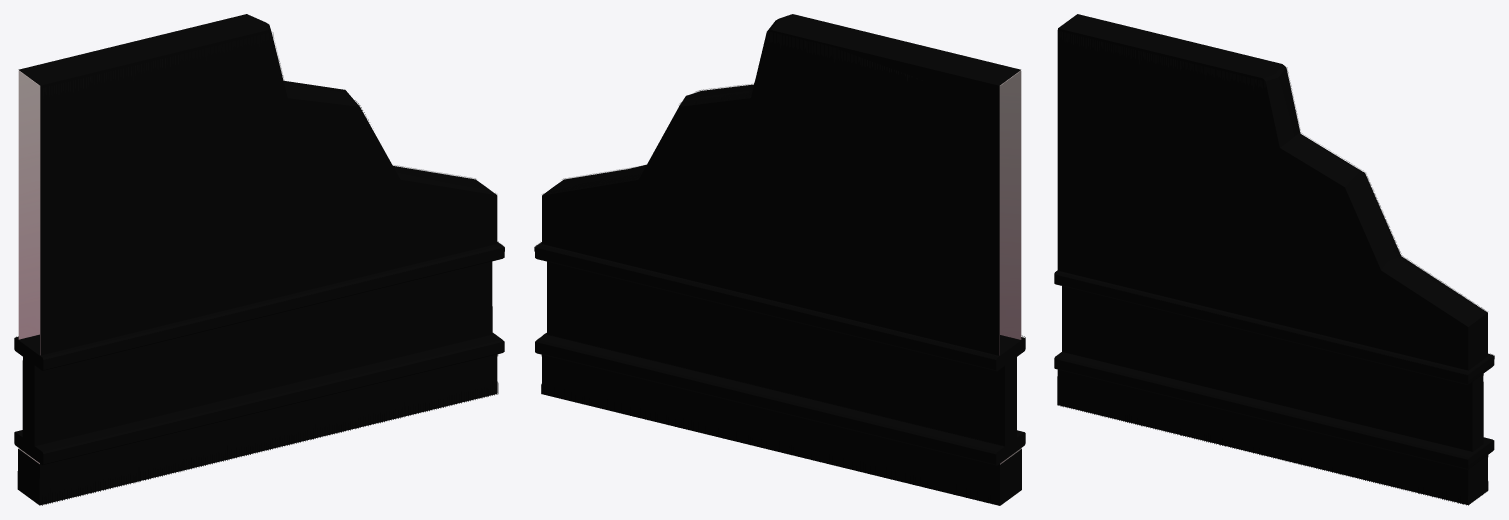
Rendered from crystal-crossroads__Wall_Broken_01.glb.
3 views of the same model, side by side, from view 1: azimuth 30°, elevation 25°; view 2: azimuth 150°, elevation 25°; view 3: azimuth 330°, elevation 25° (orthographic). The views are drawn at different scales.
Parts seen in each view (by area): view 1: Wall_Broken_01; view 2: Wall_Broken_01; view 3: Wall_Broken_01.
Boxes of the visible parts, x1,y1,x2,y2 form: Wall_Broken_01: (14, 14, 504, 505); Wall_Broken_01: (534, 14, 1025, 505); Wall_Broken_01: (1054, 14, 1494, 505).
Bounding box in the file's own units: 4.04 × 3.51 × 0.4611.
3 materials, 2 textured.
